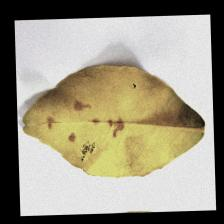canker: (42, 90, 132, 152)
